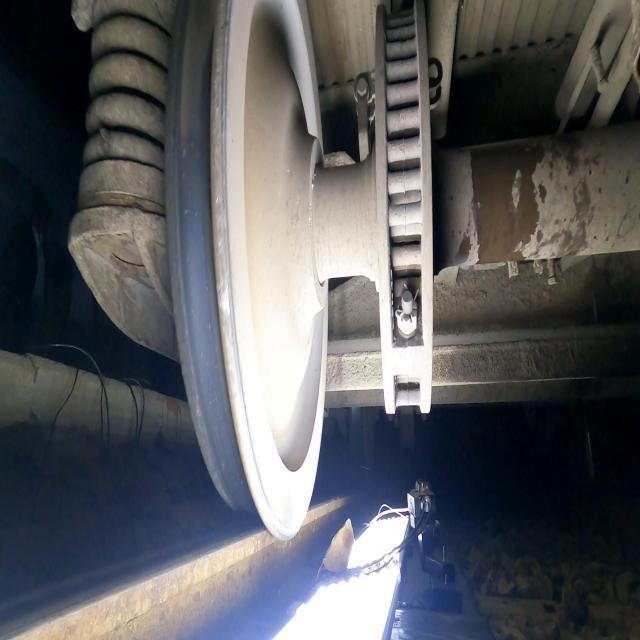Cracks-Scratches: (216, 278, 231, 315)
Shelling: (180, 4, 215, 139)
Wheel: (165, 0, 328, 540)
